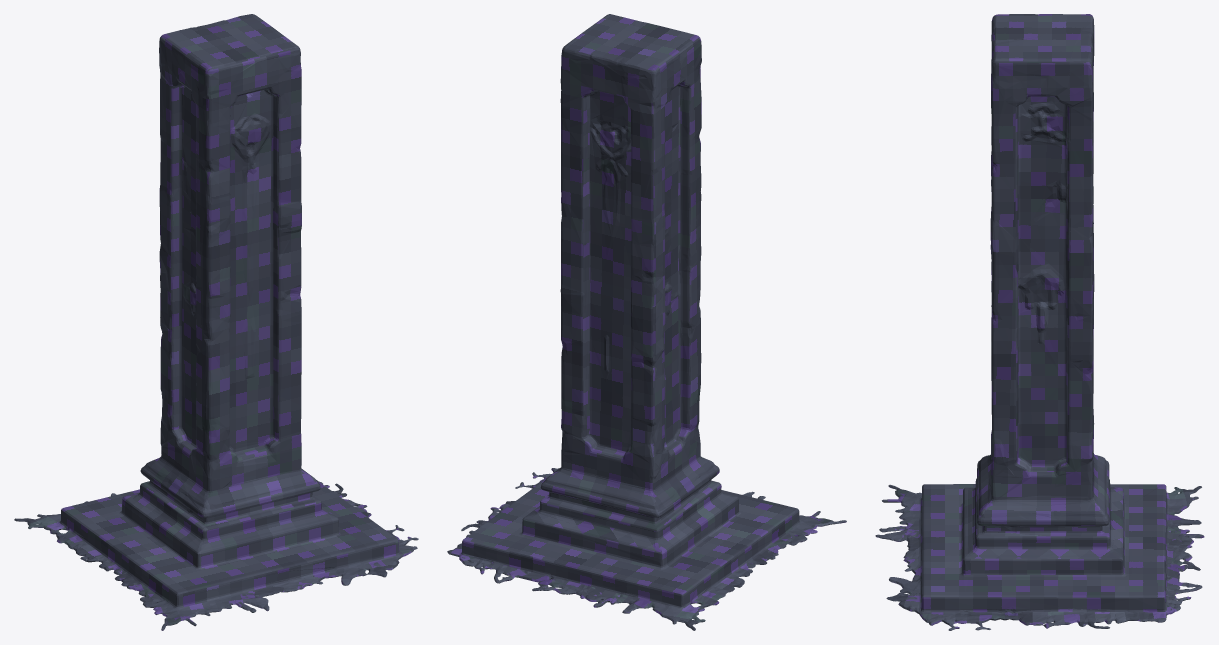
The model's file is solitude-pillar-6.collider.glb.
3 renders of one model, left to right at view 1: azimuth 30°, elevation 25°; view 2: azimuth 150°, elevation 25°; view 3: azimuth 270°, elevation 25°, orthographic. The views are drawn at different scales.
Parts seen in each view (by area): view 1: temp_mesh.ply; view 2: temp_mesh.ply; view 3: temp_mesh.ply.
Part boxes in pixels (x1,y1,x2,y2): temp_mesh.ply: [14, 14, 418, 630]; temp_mesh.ply: [447, 14, 846, 630]; temp_mesh.ply: [875, 14, 1204, 630].
Size of the model in its own units: 1.18 by 1.97 by 1.13.
1 material, 1 textured.
